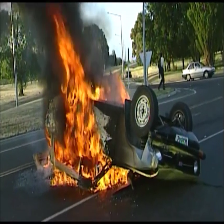fire_h: (54, 7, 112, 179), (92, 165, 129, 192), (52, 168, 78, 188), (114, 72, 129, 103)
fire_l: (43, 154, 53, 167), (46, 128, 51, 147)
